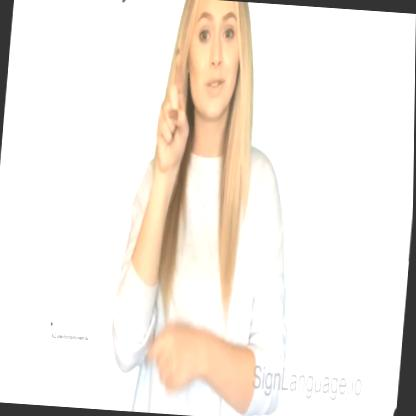NiceToMeetYou: (122, 50, 225, 416)
